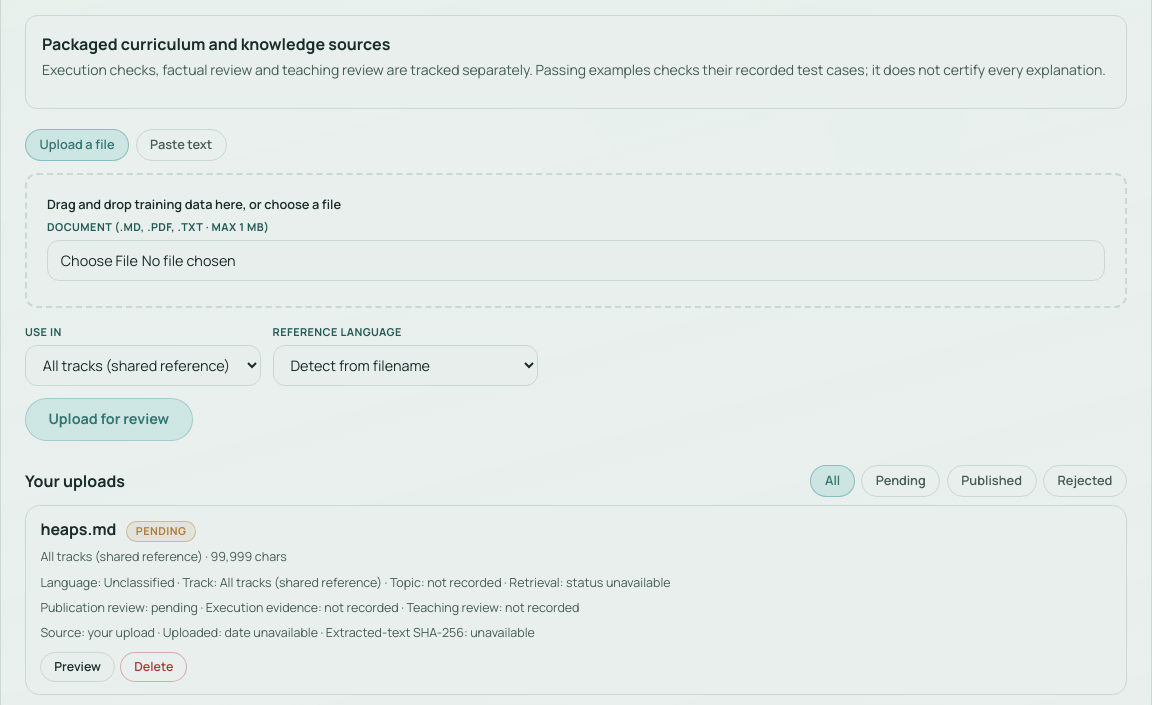
Scenario: KnowledgeUploadPanel — teacher › previews, hides, and handles preview errors
(page scrolled)
Click the button "Preview": click(78, 667) 40,652 -> 115,682
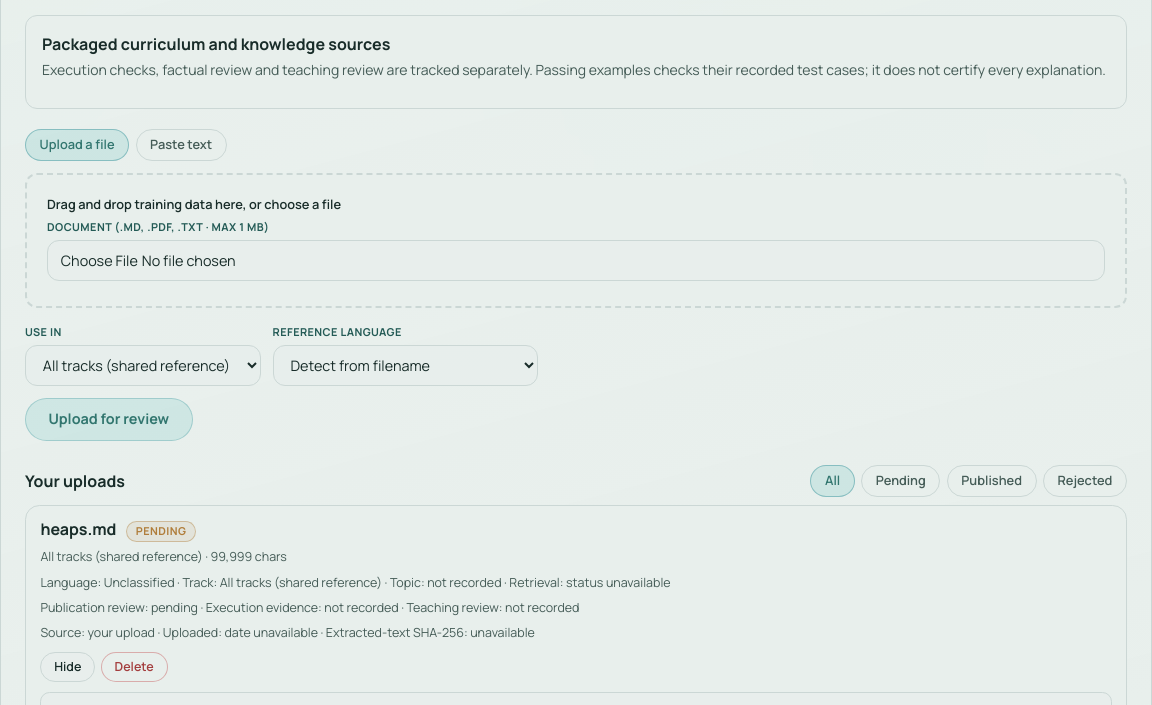
Click the button "Hide": click(68, 667) 40,652 -> 95,682
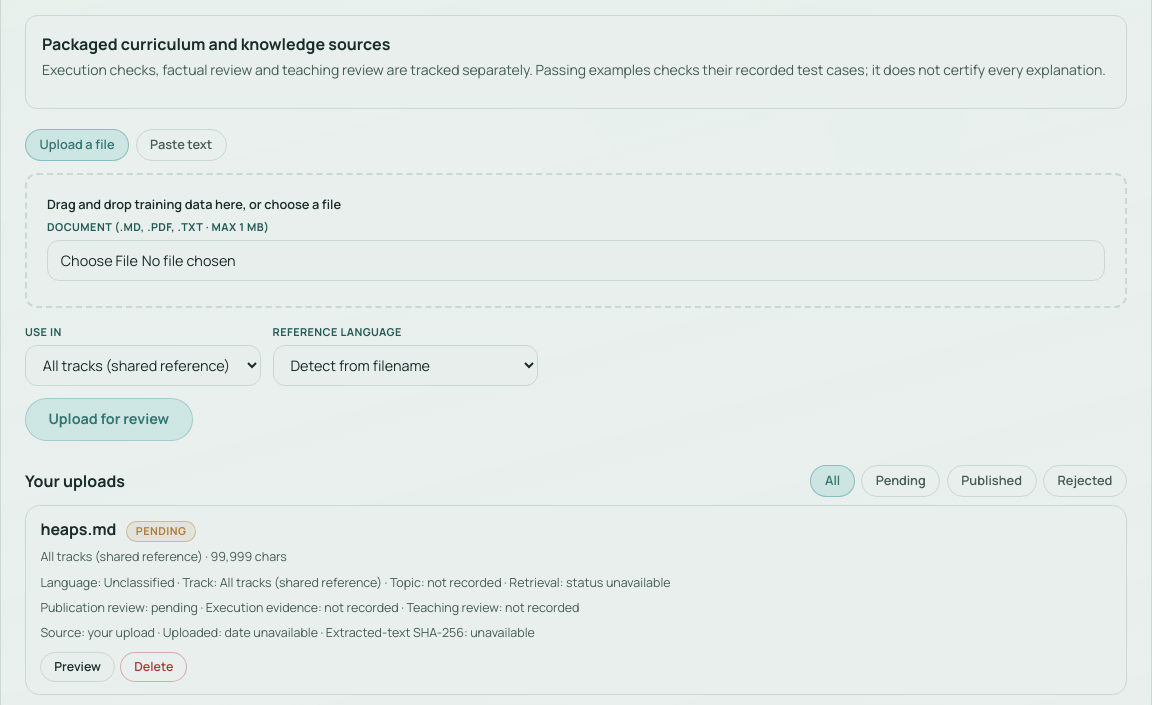
Click the button "Preview": click(78, 667) 40,652 -> 115,682
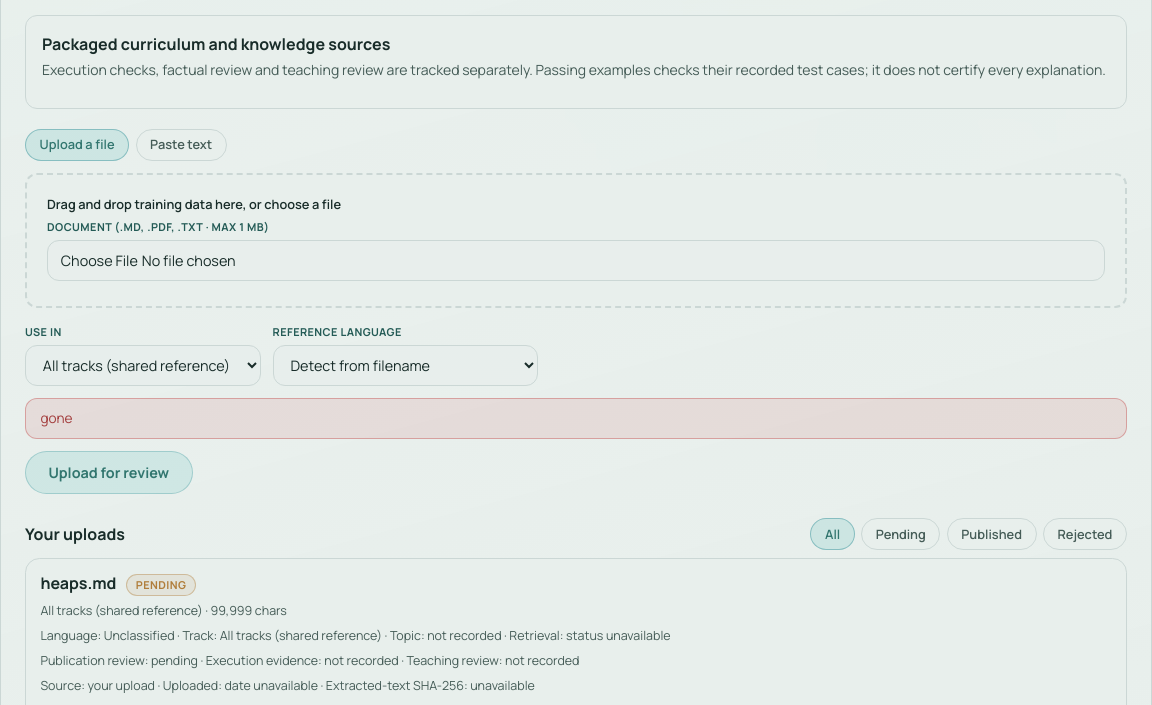
Expected: the message reads "gone", 40,409 -> 72,427
